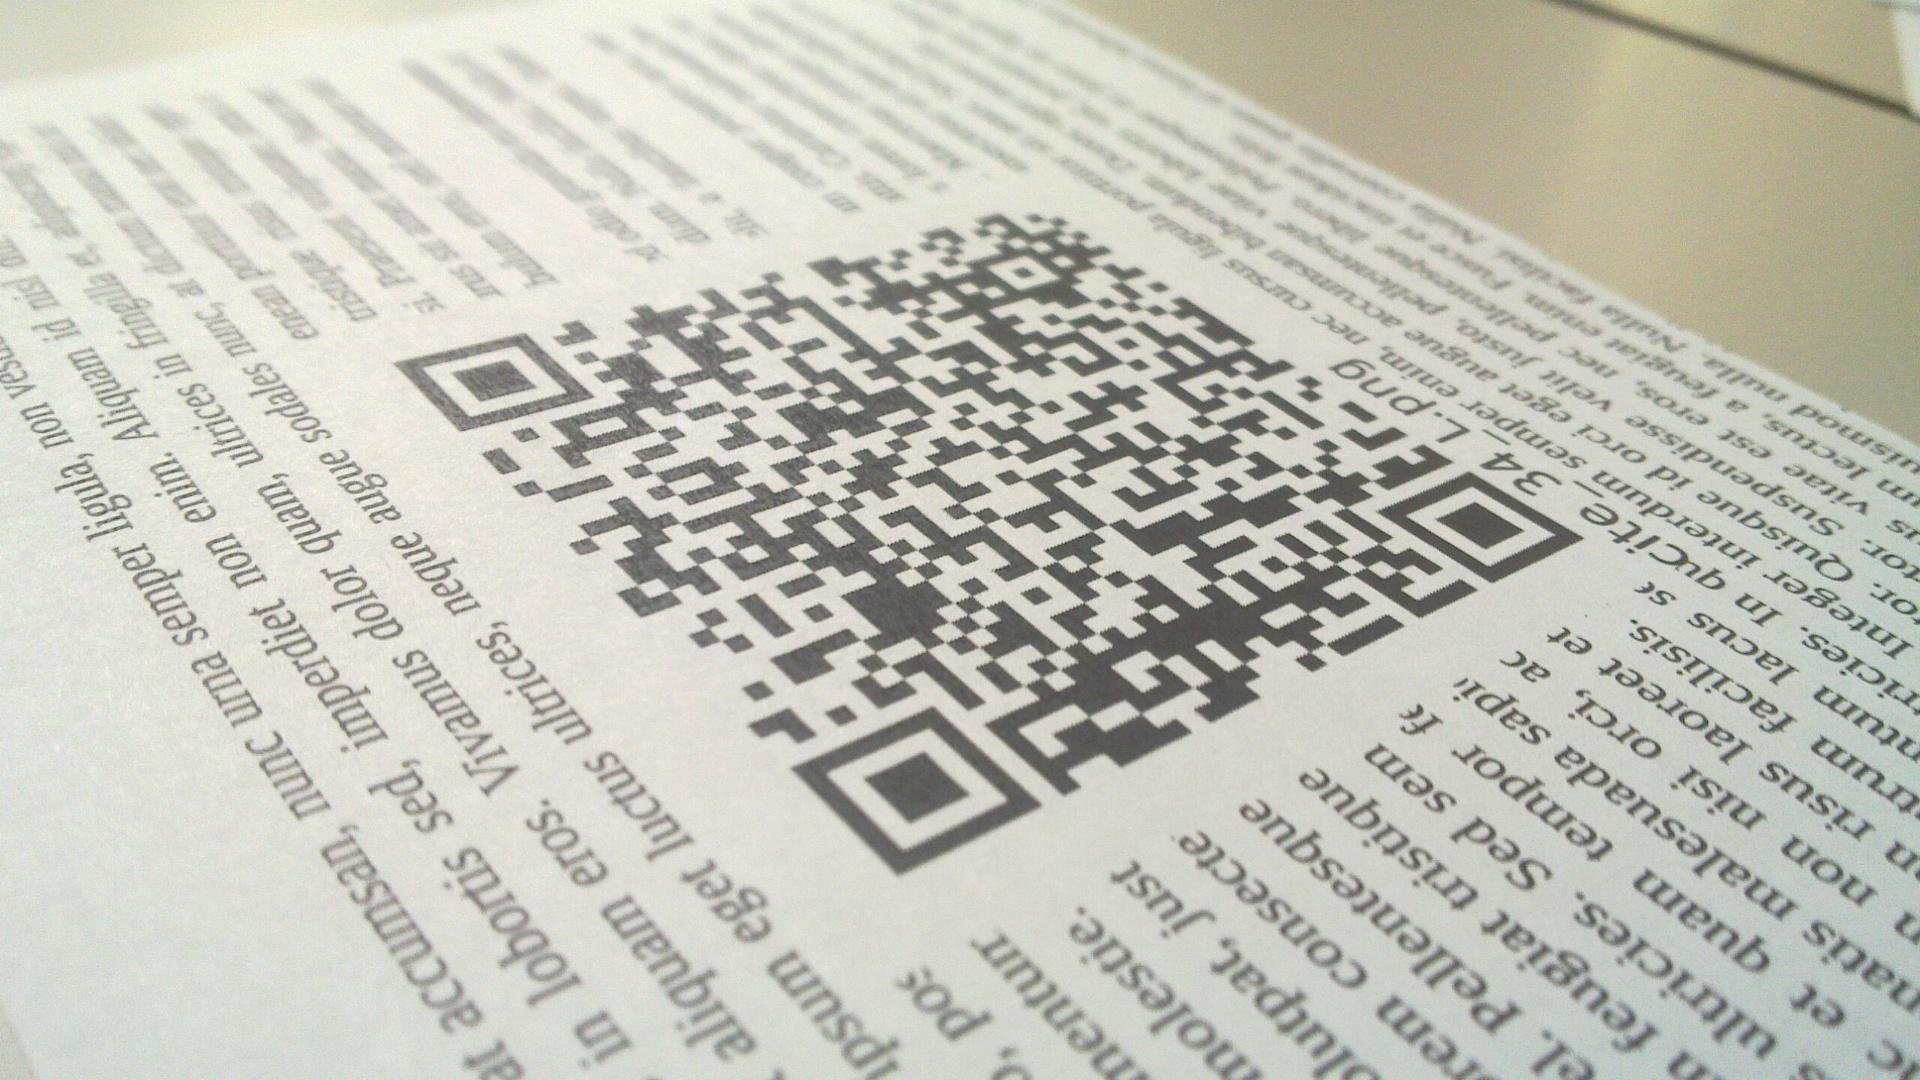qr_code: (390, 210, 1584, 878)
